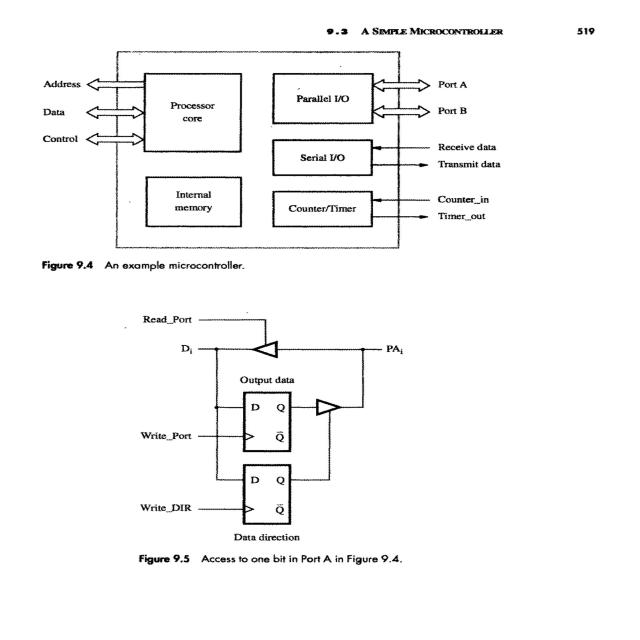diagram: (13, 42, 515, 622)
